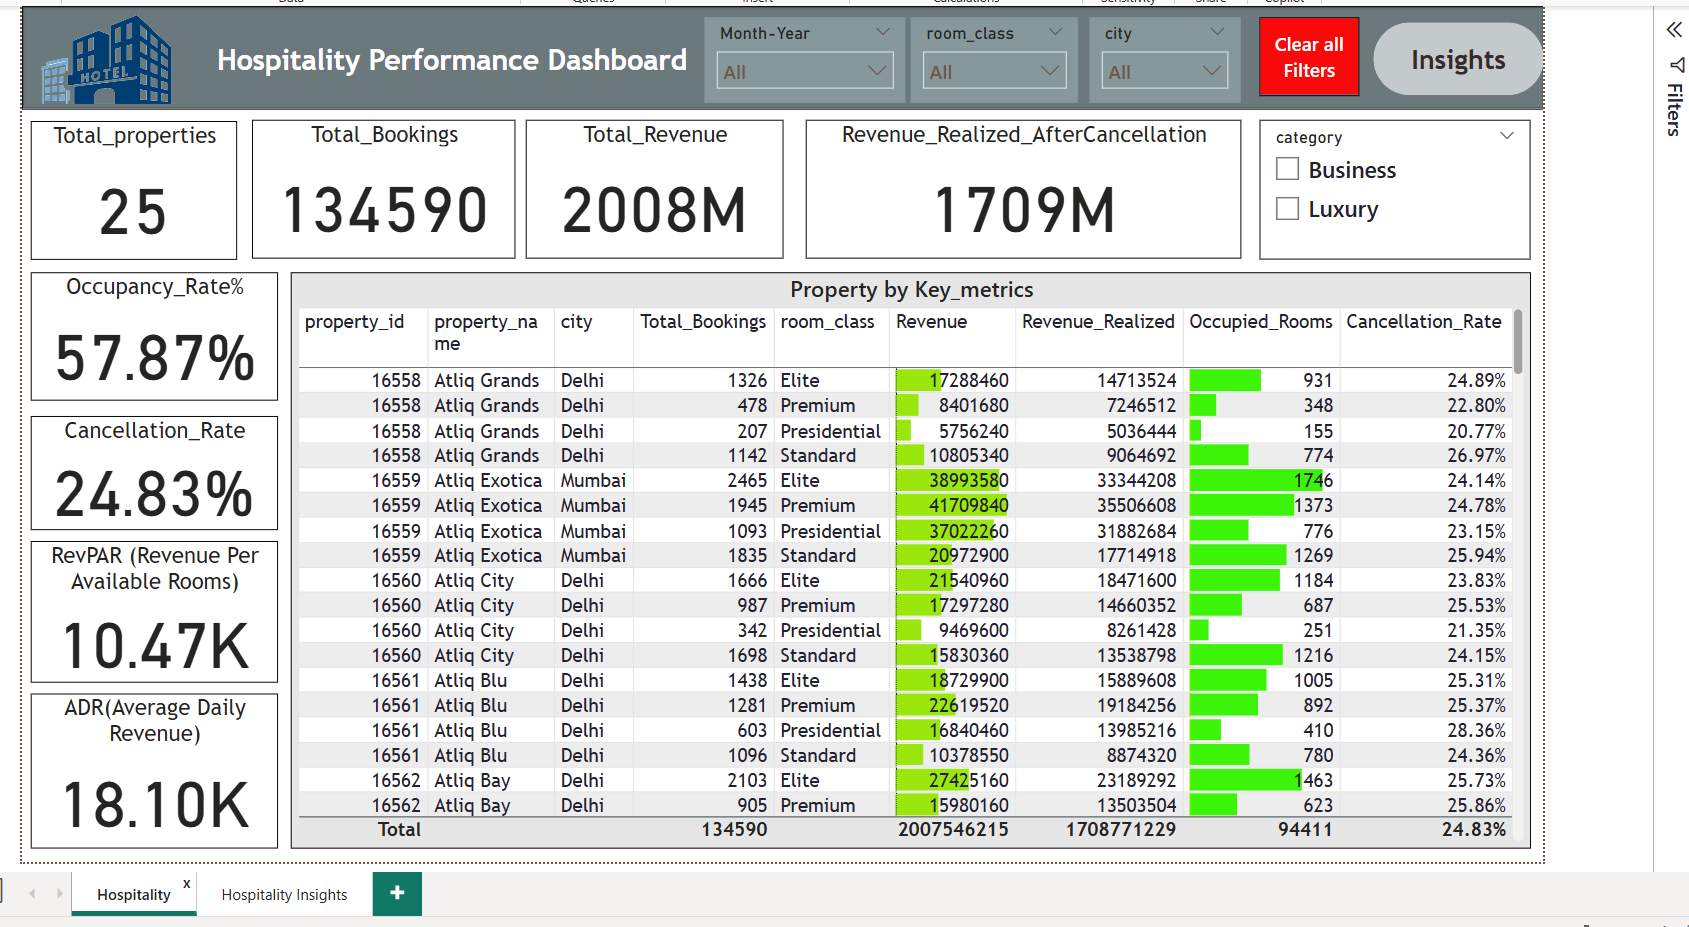

This screenshot's page, from the dashboard's own definition file:
{"tool":"powerbi","page":{"name":"Hospitality ","canvas":[1280,720],"ordinal":0},"visuals":[{"type":"tableEx","title":"Property by Key_metrics","fields":{"Values":["fact_bookings.property_id","dim_hotels.property_name","dim_hotels.city","fact_bookings.Total_Bookings","dim_rooms.room_class","fact_bookings.Total_revenue","fact_bookings.Revenue_Realized_AfterCancellation","fact_bookings.Occupied_Rooms","fact_bookings.Cancellation_Rate"]},"box":[225.6,224.3,1043.2,484.4],"z":0},{"type":"shape","box":[0,0,1280.6,87.3],"z":1000},{"type":"shape","box":[139.8,9.5,443.7,70.4],"z":2000},{"type":"image","box":[0,0,139.8,87.3],"z":3000},{"type":"card","title":"Total_Bookings","fields":{"Values":["fact_bookings.Total_Bookings"]},"box":[193.5,96.1,221.7,116.6],"z":4000},{"type":"slicer","fields":{"Values":["dim_date.Month-Year"]},"box":[574.1,9,169.2,71.8],"z":5000},{"type":"slicer","fields":{"Values":["dim_hotels.category"]},"box":[1040.6,96.1,228.1,117.9],"z":6000},{"type":"card","title":"Total_properties","fields":{"Values":["fact_bookings.Total_Properties"]},"box":[7.4,96.7,173.5,116.7],"z":7000},{"type":"slicer","fields":{"Values":["dim_rooms.room_class"]},"box":[747.1,9,141,71.8],"z":8000},{"type":"slicer","fields":{"Values":["dim_hotels.city"]},"box":[898.4,9,126.9,71.8],"z":9000},{"type":"card","title":"Total_Revenue","fields":{"Values":["fact_bookings.Total_revenue"]},"box":[424.2,96.1,216.6,116.6],"z":10000},{"type":"card","title":"Revenue_Realized_AfterCancellation","fields":{"Values":["fact_bookings.Revenue_AfterCacellation"]},"box":[658.7,96.1,366.5,116.6],"z":11000},{"type":"card","title":"Occupancy_Rate%","fields":{"Values":["fact_bookings.occupancy_Rate"]},"box":[7.7,224.3,207.6,107.6],"z":12000},{"type":"card","title":"Cancellation_Rate","fields":{"Values":["fact_bookings.Cancellation_Rate"]},"box":[7.7,344.7,207.6,96.1],"z":13000},{"type":"card","title":"RevPAR (Revenue Per Available Rooms)","fields":{"Values":["fact_bookings.RevPAR"]},"box":[7.7,449.8,207.6,119.2],"z":14000},{"type":"card","title":"ADR(Average Daily Revenue)","fields":{"Values":["fact_bookings.ADR"]},"box":[7.7,578,207.6,130.7],"z":15000},{"type":"shape","box":[1136.7,14.1,143.5,61.5],"z":16000},{"type":"actionButton","box":[1040.9,9.5,84.1,66.2],"z":17000}]}

Visuals, with their boxes on the page's 1280x720 design canvas (x1, y1, x2, y2). These are canvas units, not pixel positions in the 1689x927 screenshot, which may show the page scaled, cropped or inside an application window:
"Property by Key_metrics" tableEx: x1=226 y1=224 x2=1269 y2=709
shape: x1=0 y1=0 x2=1281 y2=87
shape: x1=140 y1=10 x2=584 y2=80
image: x1=0 y1=0 x2=140 y2=87
"Total_Bookings" card: x1=194 y1=96 x2=415 y2=213
slicer - dim_date.Month-Year: x1=574 y1=9 x2=743 y2=81
slicer - dim_hotels.category: x1=1041 y1=96 x2=1269 y2=214
"Total_properties" card: x1=7 y1=97 x2=181 y2=213
slicer - dim_rooms.room_class: x1=747 y1=9 x2=888 y2=81
slicer - dim_hotels.city: x1=898 y1=9 x2=1025 y2=81
"Total_Revenue" card: x1=424 y1=96 x2=641 y2=213
"Revenue_Realized_AfterCancellation" card: x1=659 y1=96 x2=1025 y2=213
"Occupancy_Rate%" card: x1=8 y1=224 x2=215 y2=332
"Cancellation_Rate" card: x1=8 y1=345 x2=215 y2=441
"RevPAR (Revenue Per Available Rooms)" card: x1=8 y1=450 x2=215 y2=569
"ADR(Average Daily Revenue)" card: x1=8 y1=578 x2=215 y2=709
shape: x1=1137 y1=14 x2=1280 y2=76
actionButton: x1=1041 y1=10 x2=1125 y2=76
